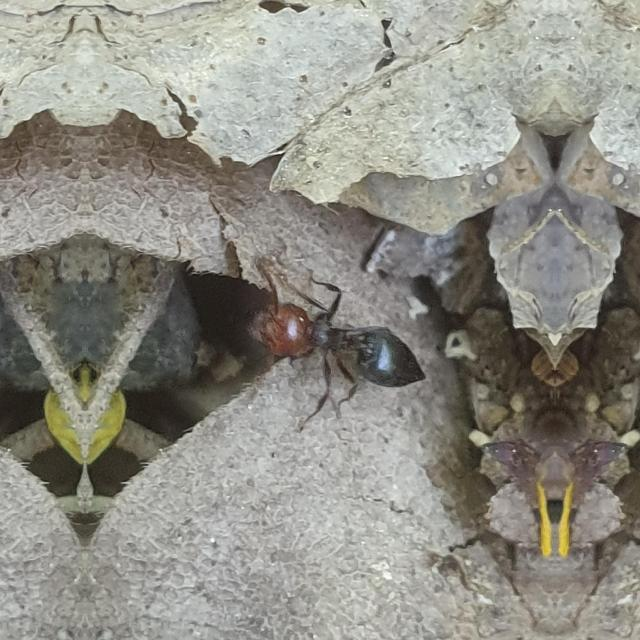Crematogaster: (253, 284, 434, 406)
